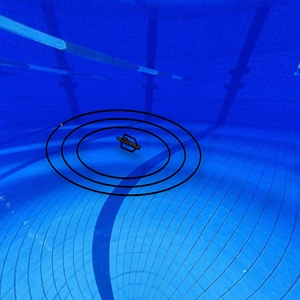circle: (41, 108, 207, 199)
submarine: (110, 129, 146, 156)
